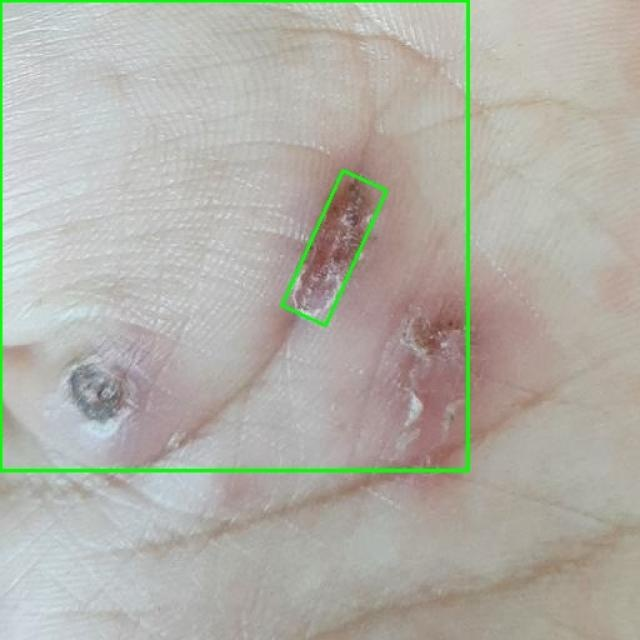Scabies: (0, 0, 468, 470), (282, 171, 387, 326)
